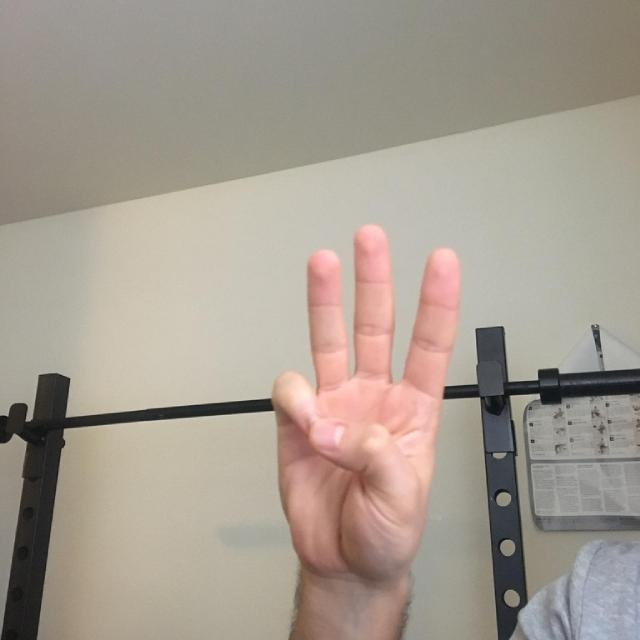W: (184, 179, 510, 636)
